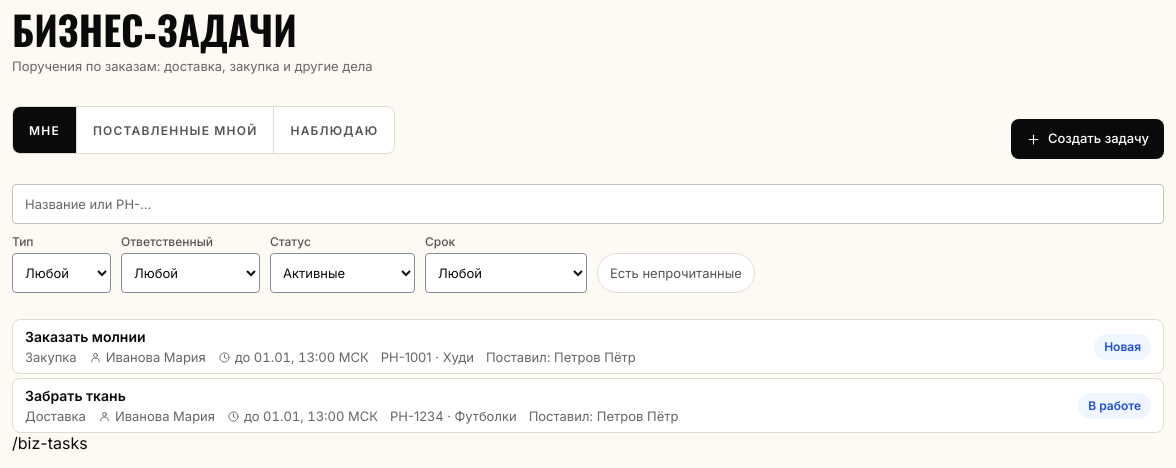
BizTasksScreen › по умолчанию — активные, где я ответственный
expect the link "Заказать молнии" is shown: met, box 12,319 -> 1164,374
expect the link "Чужая, поставил я" is not shown: met
Click the tab "Поставленные мной" at (176, 130), box 77,107 -> 274,153
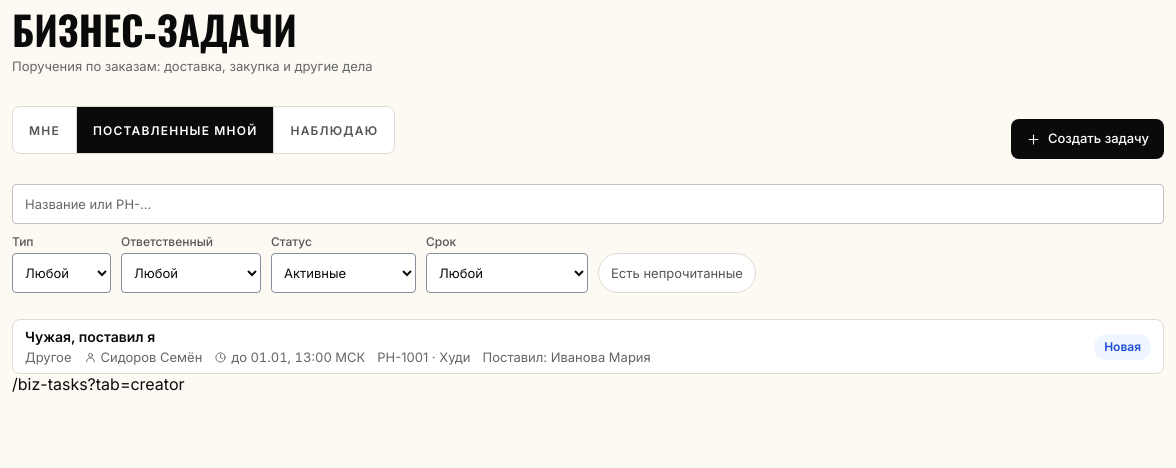
expect the link "Чужая, поставил я" is shown: met, box 12,319 -> 1164,374
expect the link "Заказать молнии" is gone: met
expect the text with test id "where" reads "/biz-tasks?tab=creator": met, box 12,374 -> 184,394
Click the tab "Наблюдаю" at (334, 130), box 274,107 -> 394,153
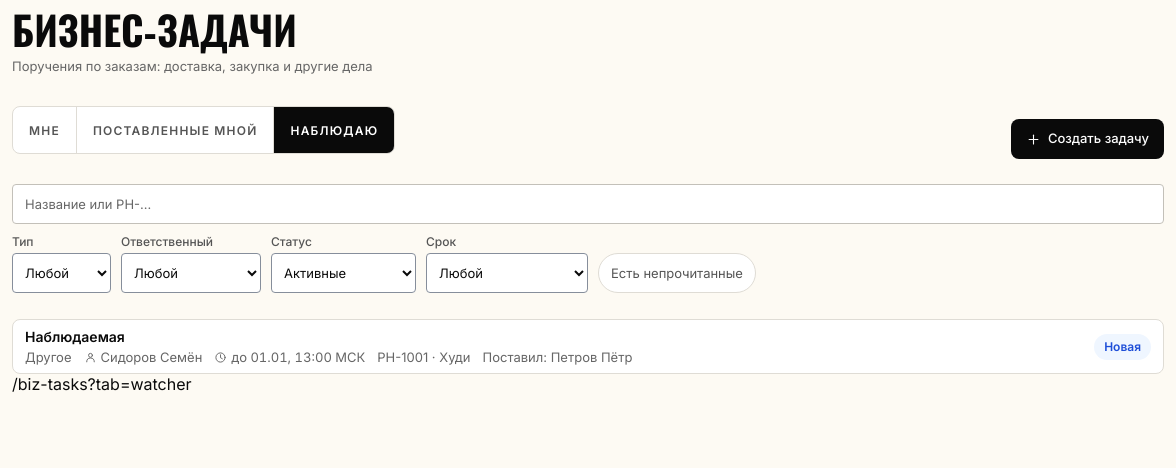
expect the link "Наблюдаемая" is shown: met, box 12,319 -> 1164,374
